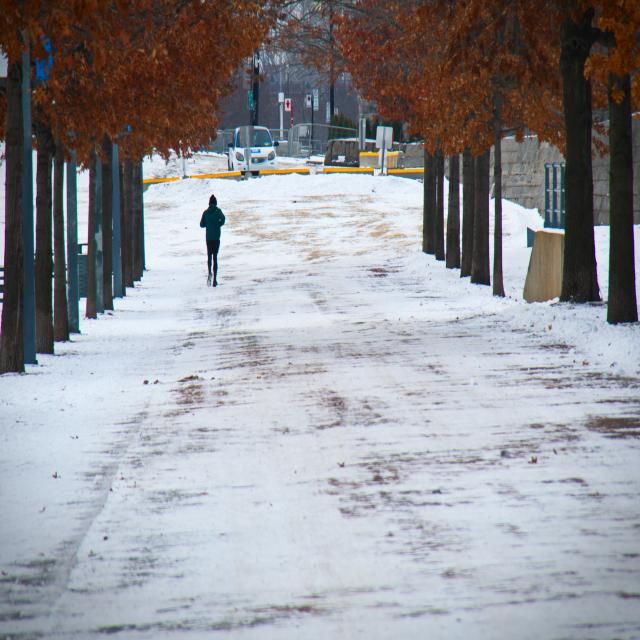running: (198, 193, 229, 290)
